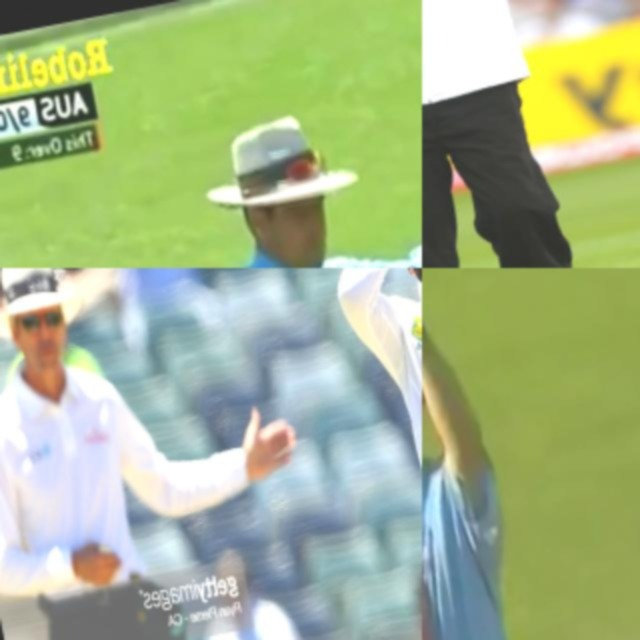No_Ball: (0, 268, 365, 640)
Out: (422, 268, 602, 640)
Six: (422, 0, 640, 268)
Wide: (42, 56, 422, 268)
